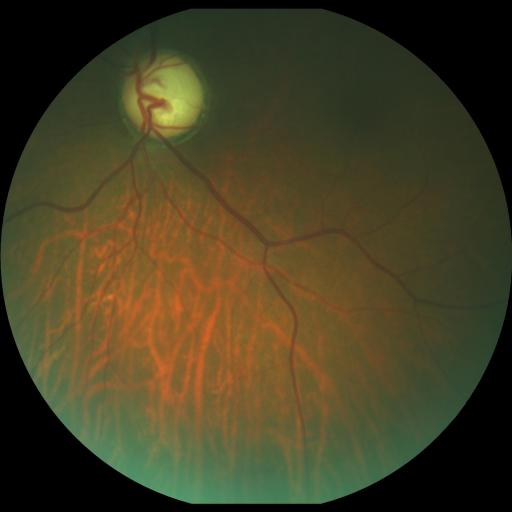Optic Disc: (123, 53, 203, 139)
